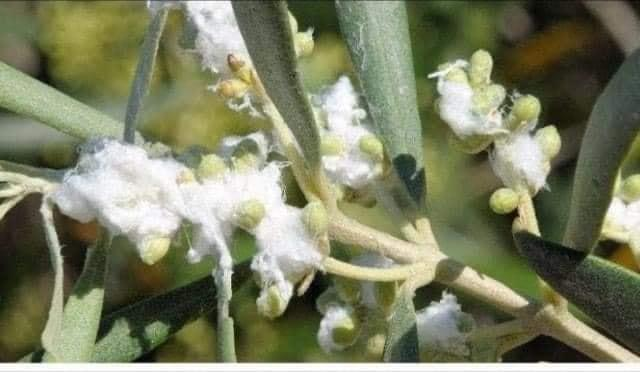Psyllid: (56, 136, 362, 312), (310, 83, 392, 199), (434, 67, 512, 148), (503, 115, 562, 193), (179, 3, 249, 64)
